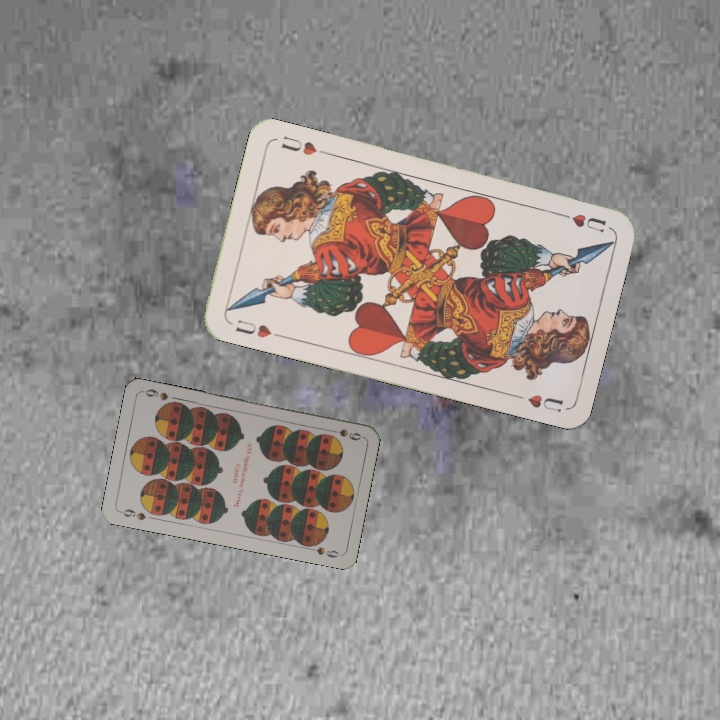HU: (553, 208, 608, 235), (231, 315, 275, 341)
S9: (324, 425, 364, 443), (116, 505, 148, 523)
